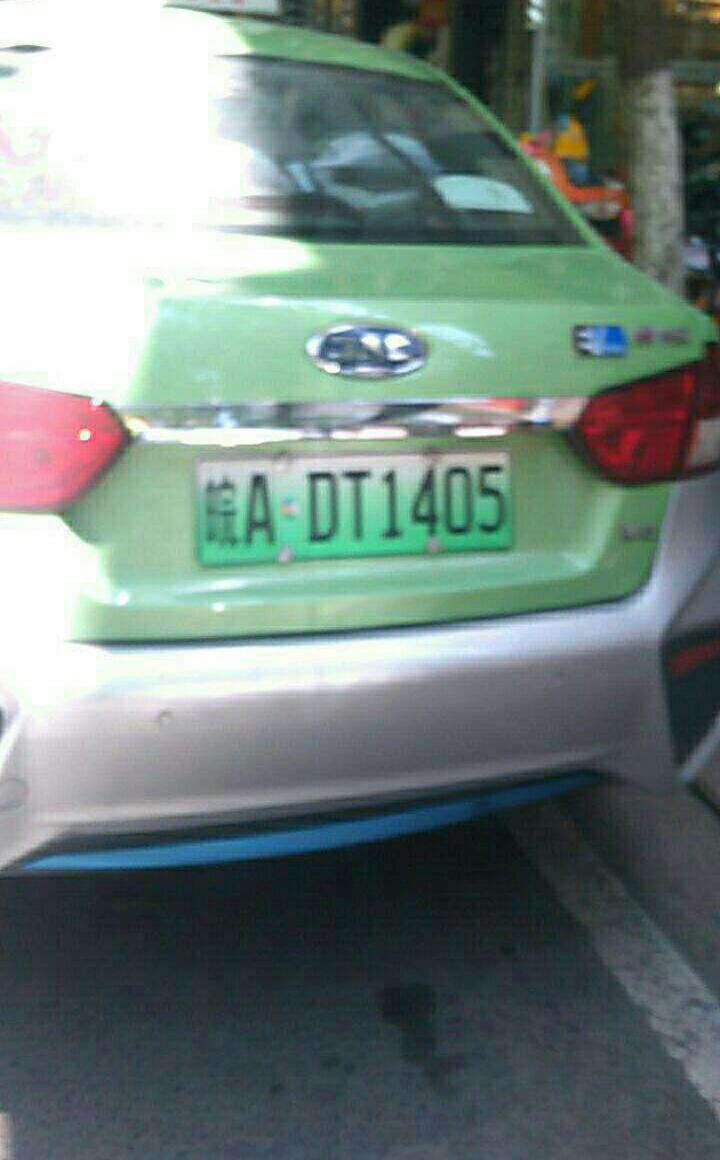car_id: (197, 457, 513, 555)
